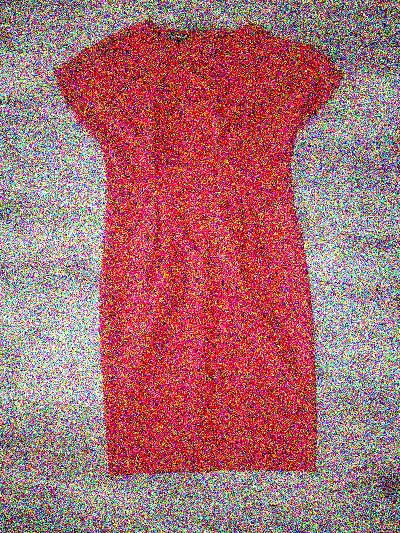Dress: (45, 15, 365, 486)
